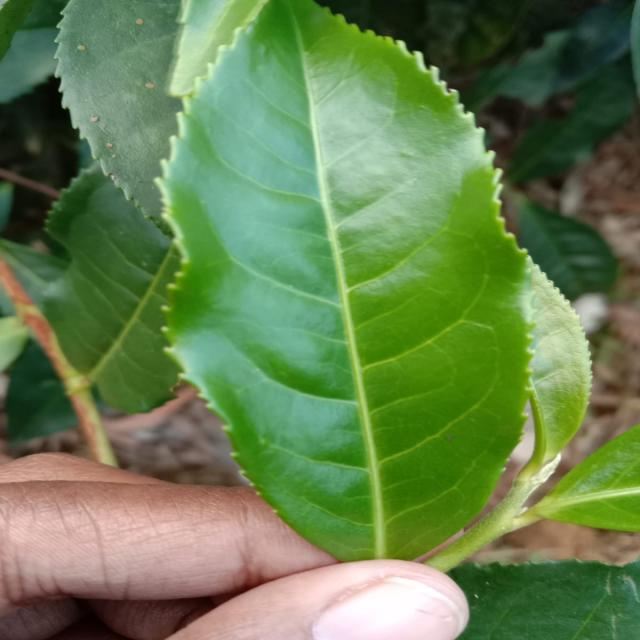Category C 4-7 days: (140, 0, 552, 583)
